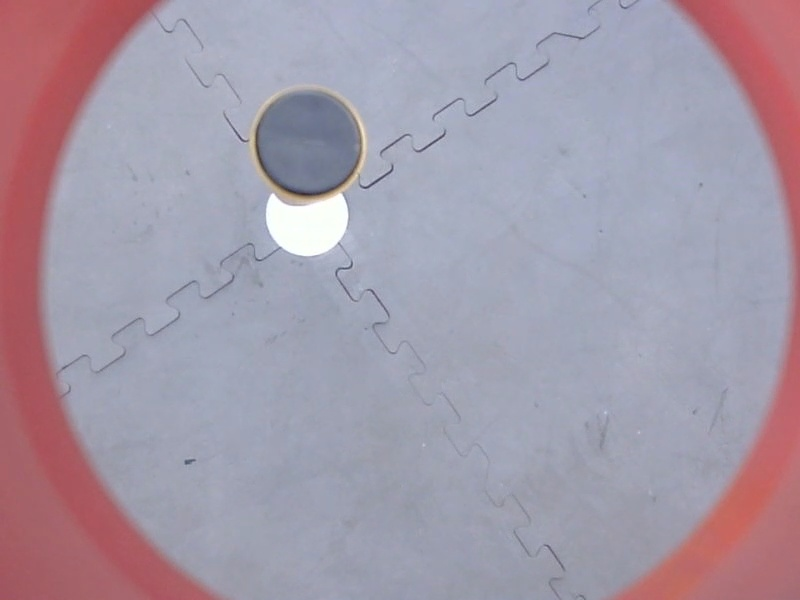tip: (246, 83, 376, 205)
